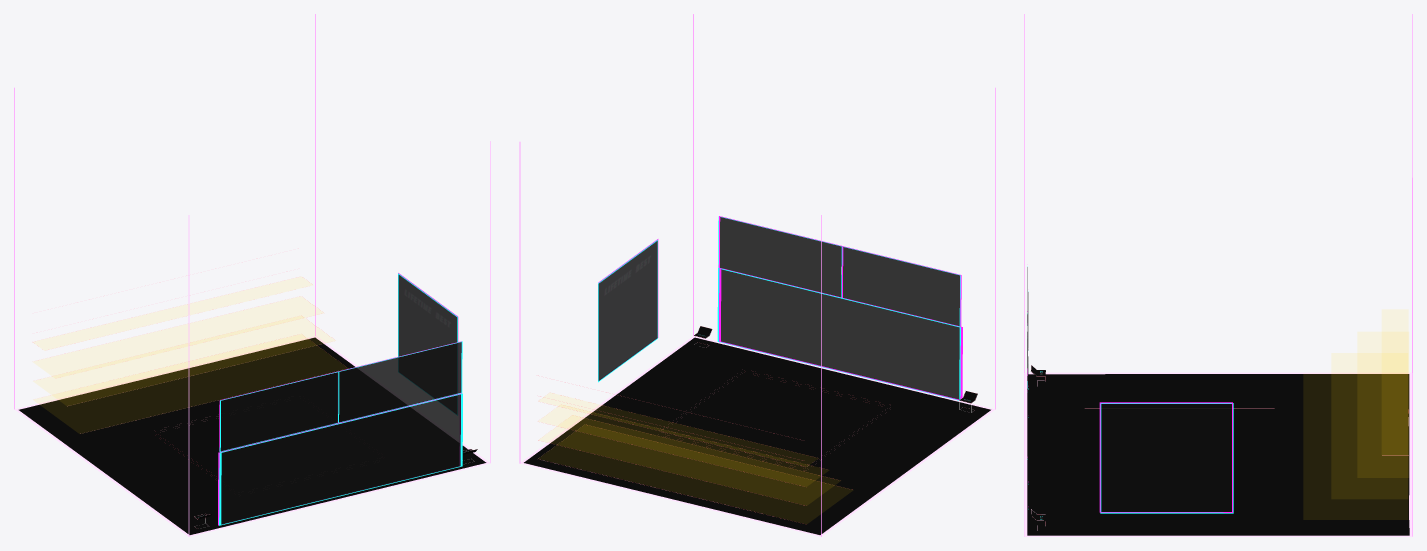
Rendered from QUIZZONE.glb.
3 renders of one model, left to right at view 1: azimuth 30°, elevation 25°; view 2: azimuth 150°, elevation 25°; view 3: azimuth 270°, elevation 25°, orthographic. The views are drawn at different scales.
Visible parts, largest first — view 1: ALL, Questions, Number_questions, TIME, stairs, LEADERBOARD.002; view 2: ALL, Questions, stairs, Number_questions, TIME, LEADERBOARD.002; view 3: ALL, LEADERBOARD.002, stairs.
Boxes of the visible parts, x1,y1,x2,y2 form: ALL: (14,14,490,536); Questions: (218,393,462,525); Number_questions: (338,341,462,422); TIME: (219,371,339,451); stairs: (33,277,348,433); LEADERBOARD.002: (398,273,458,414); ALL: (519,14,995,536); Questions: (717,268,962,400); stairs: (538,393,852,523); Number_questions: (718,216,841,297); TIME: (841,246,961,327); LEADERBOARD.002: (598,239,658,382); ALL: (1024,14,1412,536); LEADERBOARD.002: (1099,402,1233,513); stairs: (1331,332,1409,519).
Size of what is drawn, in the model's own units: 30.59 by 31.01 by 30.44.
